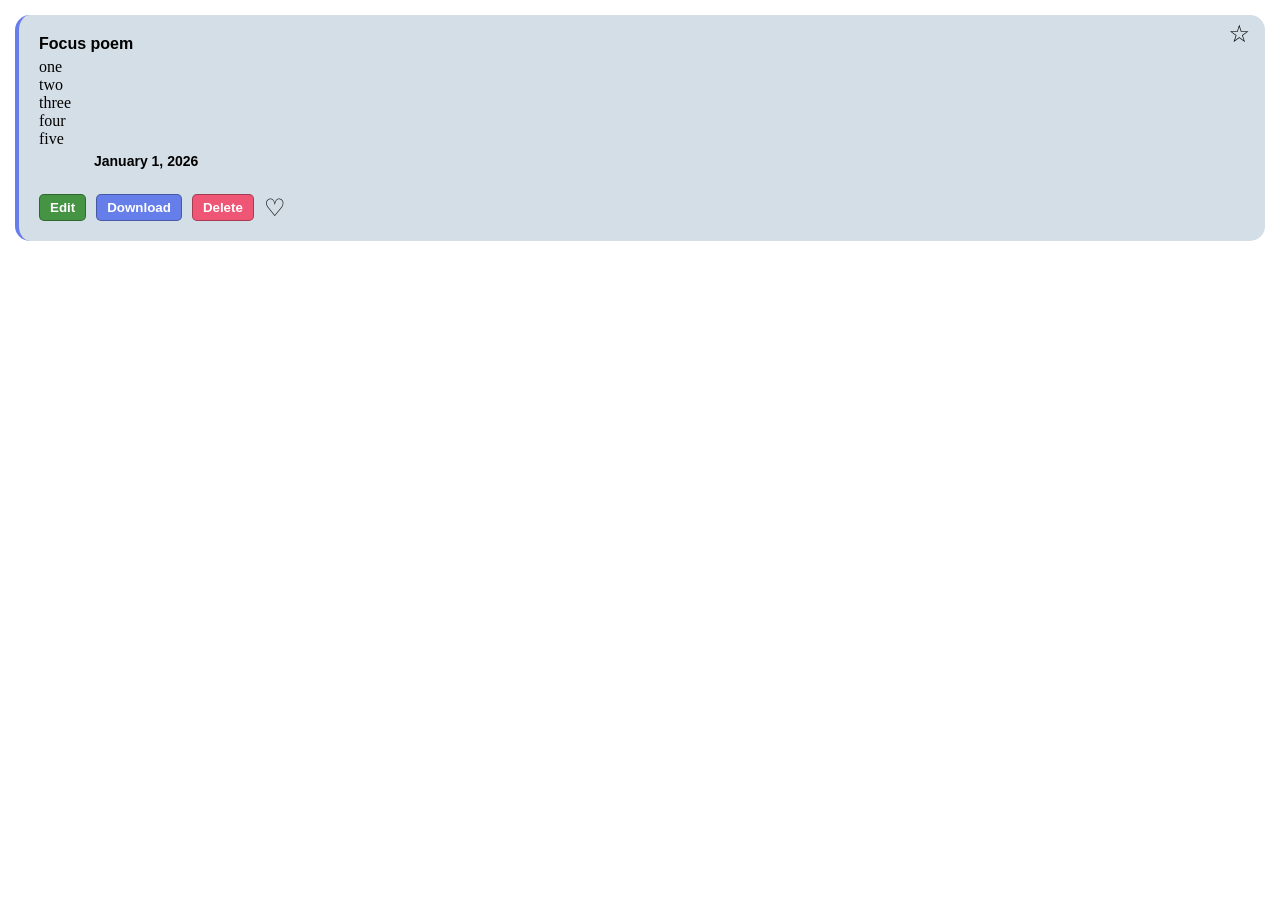
Test: card dialog focus › traps focus in the Limerick delete dialog and restores it on Escape
Click the button with aria-label "Delete limerick: Focus poem" at (223, 208), box [192, 194, 254, 221]
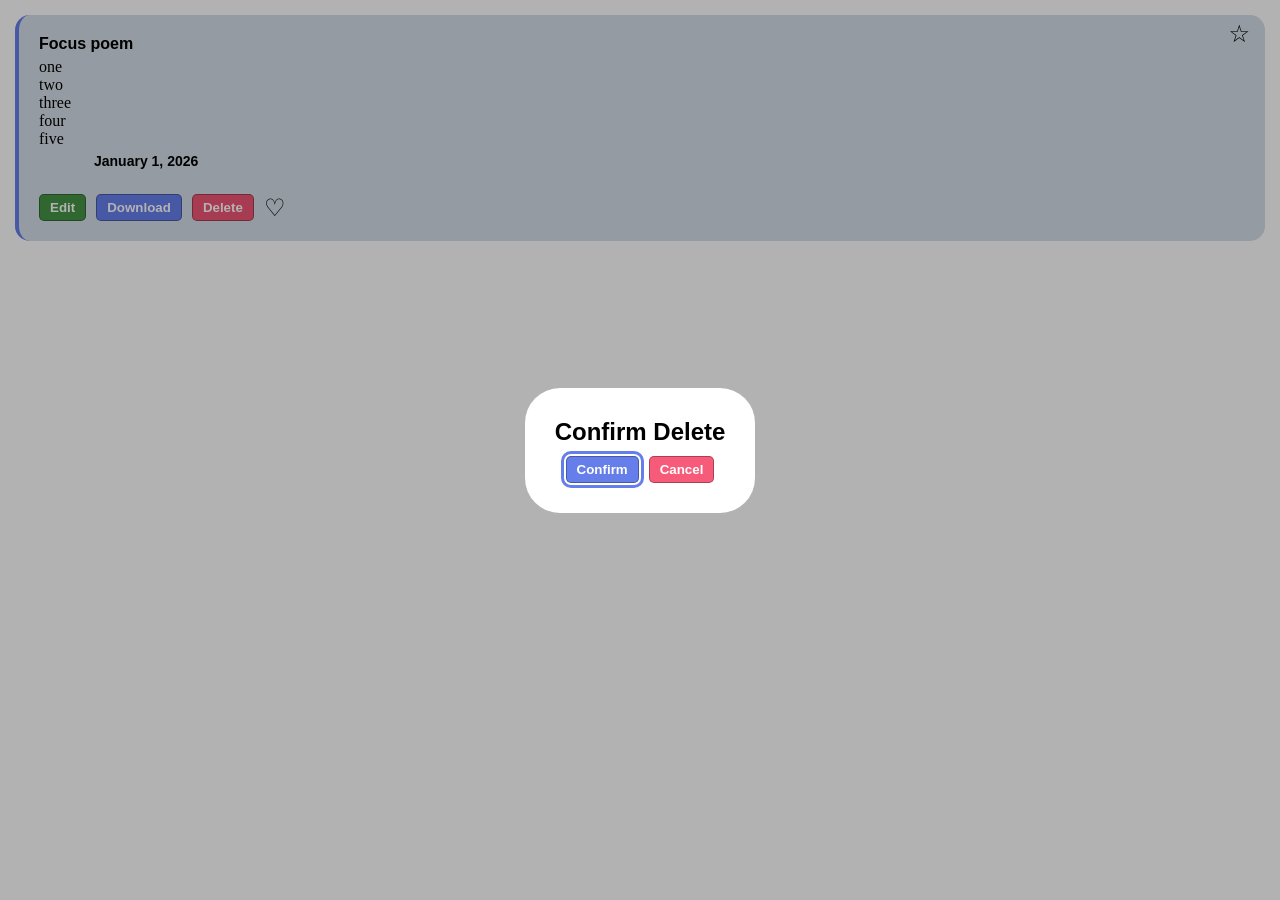
Type keys "{Shift>}{Tab}{/Shift}"
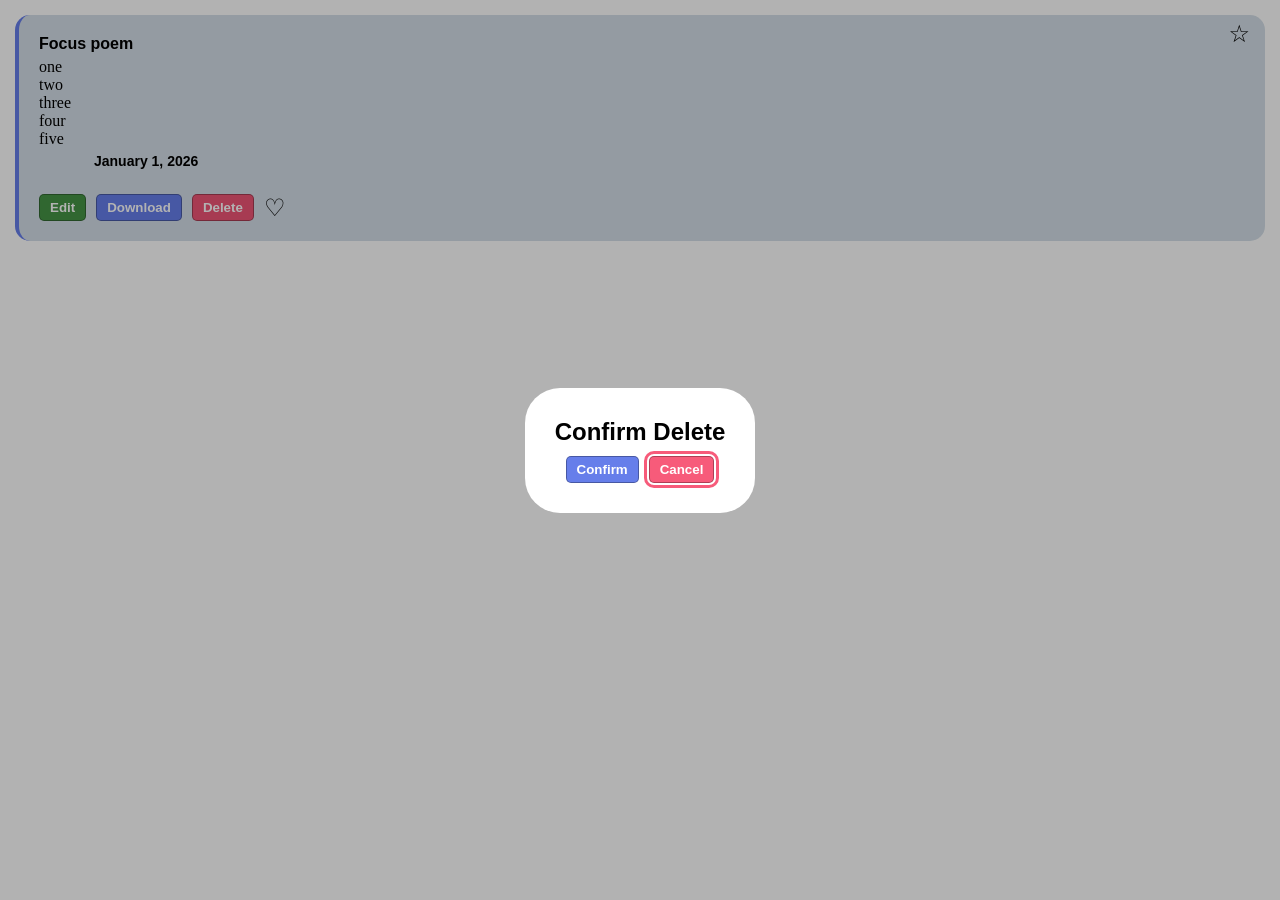
Press Tab
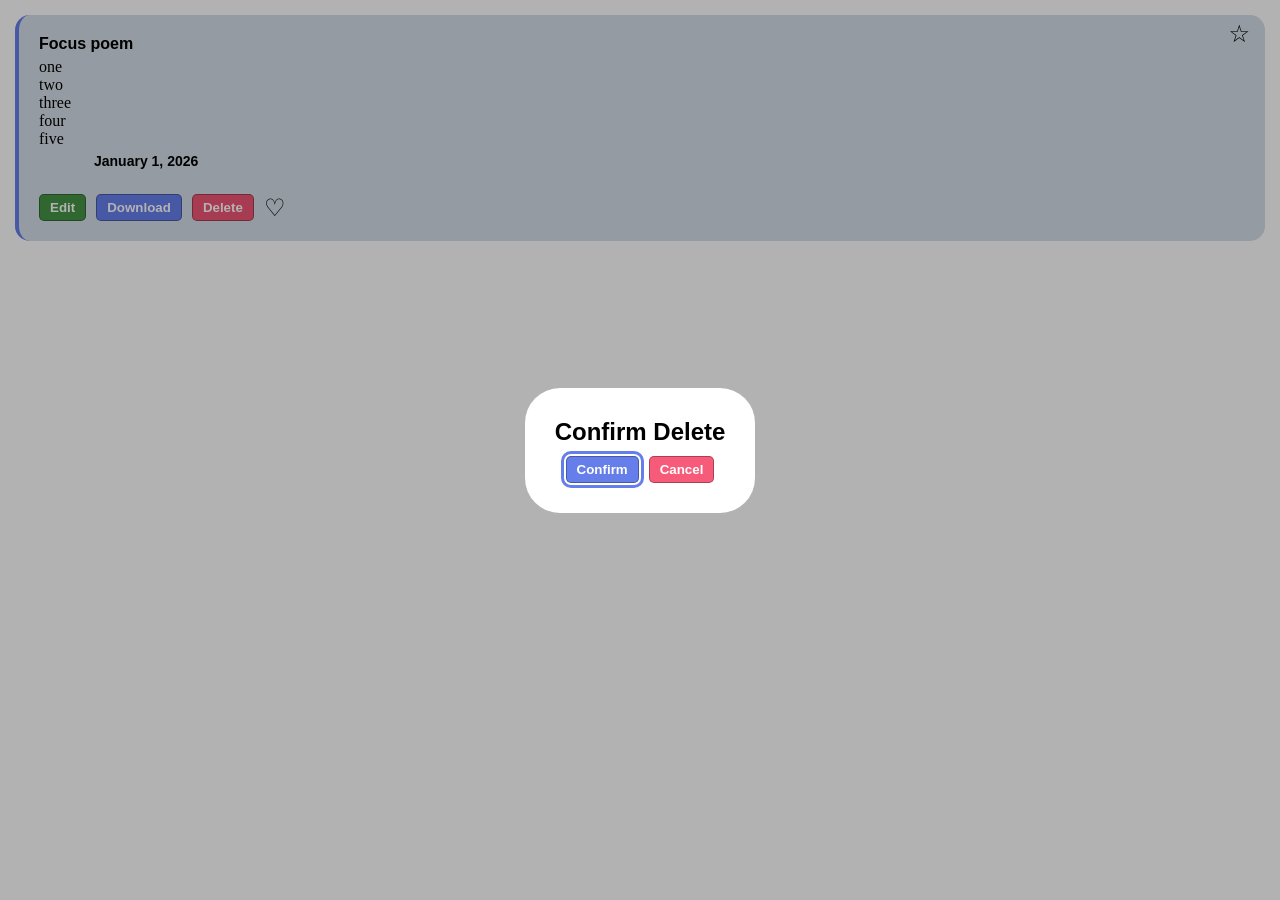
Press Escape
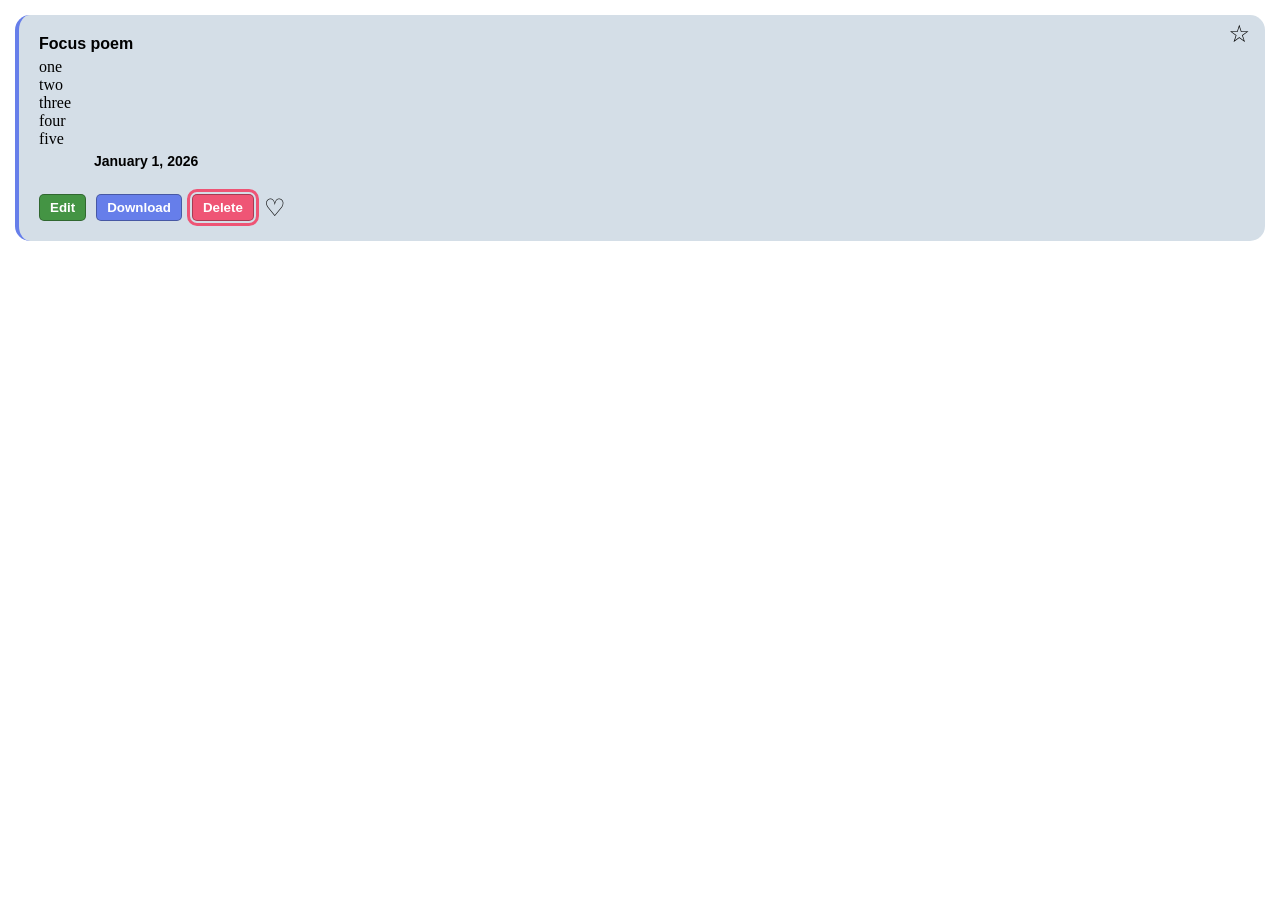
Expected: the dialog is gone
